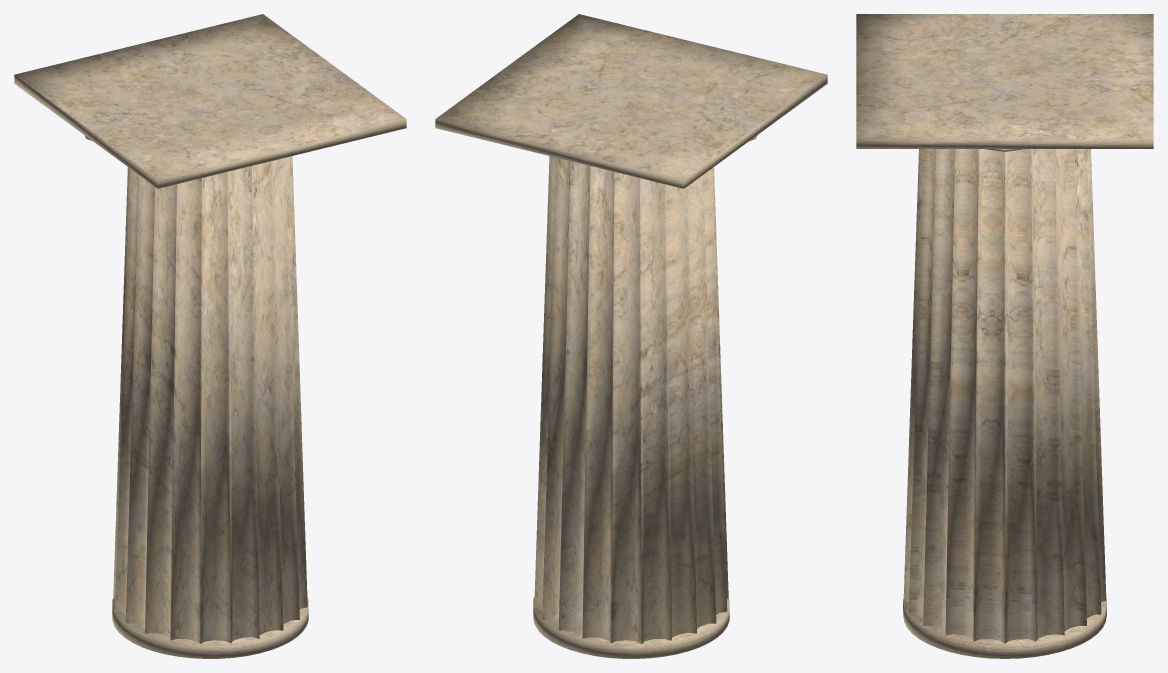
File: colmn.obj
3 views of the same model, side by side, from view 1: azimuth 30°, elevation 25°; view 2: azimuth 150°, elevation 25°; view 3: azimuth 270°, elevation 25° (orthographic). The views are drawn at different scales.
Size of the model in its own units: 1 by 2 by 1.
Materials: 1 (1 with a texture image).
